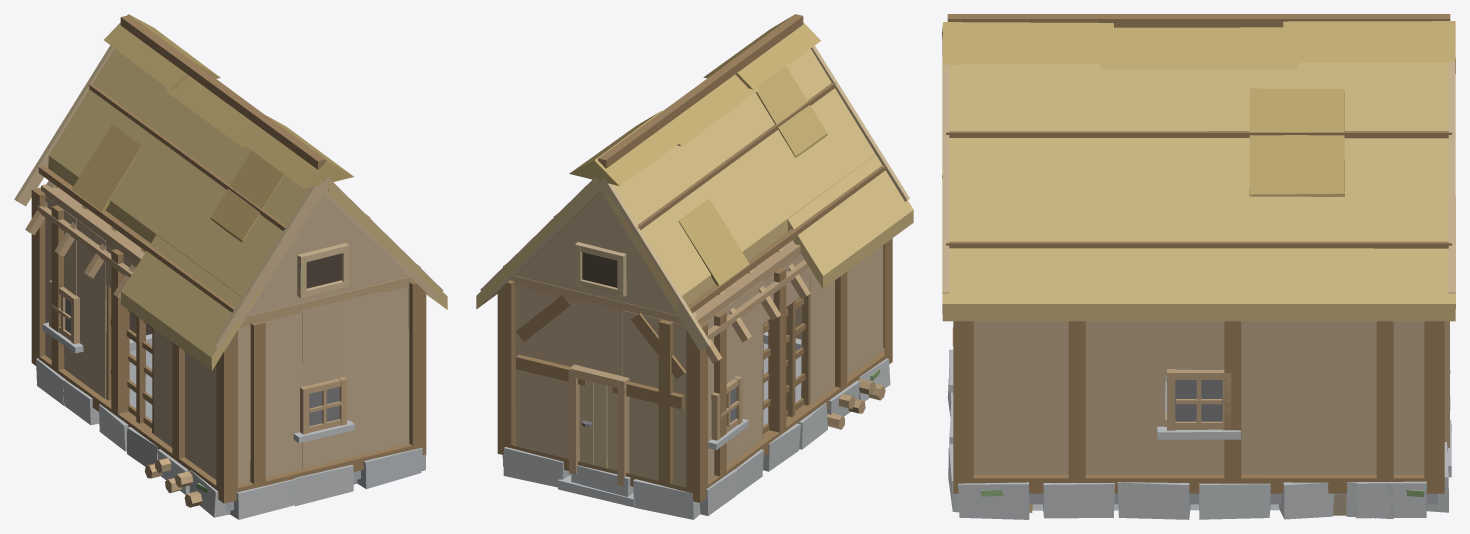
File: starter_house_model.glb
The picture shows the model from 3 angles, left to right: view 1: azimuth 30°, elevation 25°; view 2: azimuth 150°, elevation 25°; view 3: azimuth 270°, elevation 25°; orthographic projection. The views are drawn at different scales.
Parts seen in each view (by area): view 1: sh_roof_back_up, sh_wall_ym1_b, sh_roof_back_low, sh_wall_ym1_a, sh_gable_-1, sh_wall_xm1_a, sh_wall_xm1_b, sh_frame_plate_top, sh_ridge_pole, sh_frame_post_-1-1, sh_roof_patch_0, sh_wall_ym1_d (+36 smaller); view 2: sh_roof_back_up, sh_roof_back_low, sh_wall_y1_b, sh_wall_xm1_a, sh_gable_1, sh_wall_y1_a, sh_wall_xm1_b, sh_frame_plate_top, sh_frame_post_-11, sh_ridge_pole, sh_roof_patch_0, sh_frame_post_11 (+46 smaller); view 3: sh_roof_front, sh_wall_x1_a, sh_wall_x1_b, sh_roof_patch_1, sh_ridge_cap_1, sh_ridge_cap_0, sh_ridge_cap_2, sh_ridge_pole, sh_frame_sill_x1, sh_roof_pole_11, sh_frame_post_11, sh_frame_post_1-1 (+18 smaller).
Boxes of the visible parts, left/top/right/bottom form: sh_roof_back_up: left=48, top=48, right=309, bottom=313; sh_wall_ym1_b: left=341, top=287, right=408, bottom=459; sh_roof_back_low: left=121, top=235, right=242, bottom=370; sh_wall_ym1_a: left=238, top=313, right=302, bottom=484; sh_gable_-1: left=247, top=193, right=409, bottom=316; sh_wall_xm1_a: left=153, top=329, right=216, bottom=479; sh_wall_xm1_b: left=76, top=219, right=106, bottom=399; sh_frame_plate_top: left=41, top=184, right=413, bottom=327; sh_ridge_pole: left=120, top=15, right=325, bottom=169; sh_frame_post_-1-1: left=216, top=330, right=237, bottom=503; sh_roof_patch_0: left=210, top=150, right=284, bottom=242; sh_wall_ym1_d: left=302, top=301, right=341, bottom=386; sh_roof_back_up: left=607, top=48, right=875, bottom=312; sh_roof_back_low: left=787, top=154, right=913, bottom=288; sh_wall_y1_b: left=515, top=284, right=581, bottom=458; sh_wall_xm1_a: left=801, top=245, right=883, bottom=404; sh_gable_1: left=514, top=192, right=696, bottom=316; sh_wall_y1_a: left=622, top=310, right=686, bottom=487; sh_wall_xm1_b: left=733, top=281, right=762, bottom=460; sh_frame_plate_top: left=510, top=240, right=801, bottom=324; sh_frame_post_-11: left=686, top=322, right=707, bottom=502; sh_ridge_pole: left=598, top=14, right=803, bottom=168; sh_roof_patch_0: left=756, top=66, right=827, bottom=157; sh_frame_post_11: left=497, top=280, right=515, bottom=454; sh_roof_front: left=942, top=62, right=1455, bottom=321; sh_wall_x1_a: left=973, top=321, right=1165, bottom=474; sh_wall_x1_b: left=1241, top=321, right=1424, bottom=474; sh_roof_patch_1: left=1249, top=88, right=1344, bottom=196; sh_ridge_cap_1: left=1100, top=27, right=1297, bottom=69; sh_ridge_cap_0: left=942, top=22, right=1114, bottom=64; sh_ridge_cap_2: left=1283, top=21, right=1455, bottom=62; sh_ridge_pole: left=947, top=14, right=1450, bottom=27; sh_frame_sill_x1: left=973, top=474, right=1435, bottom=493; sh_roof_pole_11: left=946, top=241, right=1451, bottom=248; sh_frame_post_11: left=1424, top=321, right=1444, bottom=493; sh_frame_post_1-1: left=953, top=321, right=973, bottom=493.
Size of the model in its own units: 2.05 by 2.83 by 3.03.
